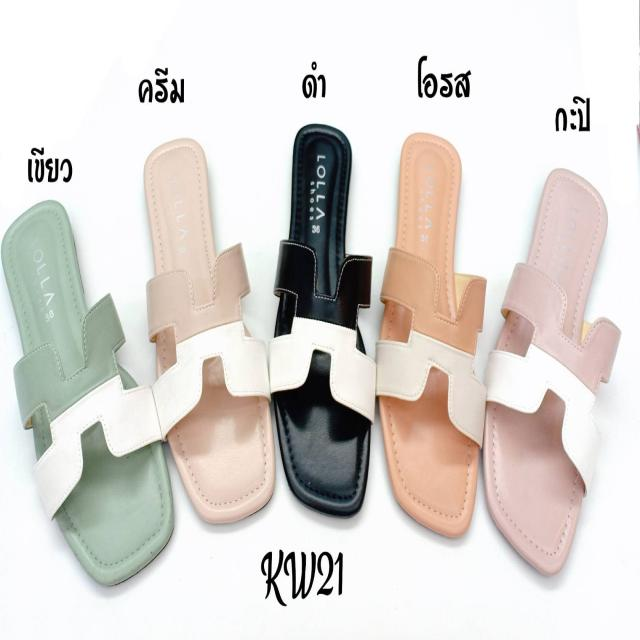black: (278, 123, 366, 510)
cream: (141, 144, 276, 514)
green: (3, 202, 172, 583)
kapi: (486, 166, 610, 569)
orot: (379, 133, 478, 539)
